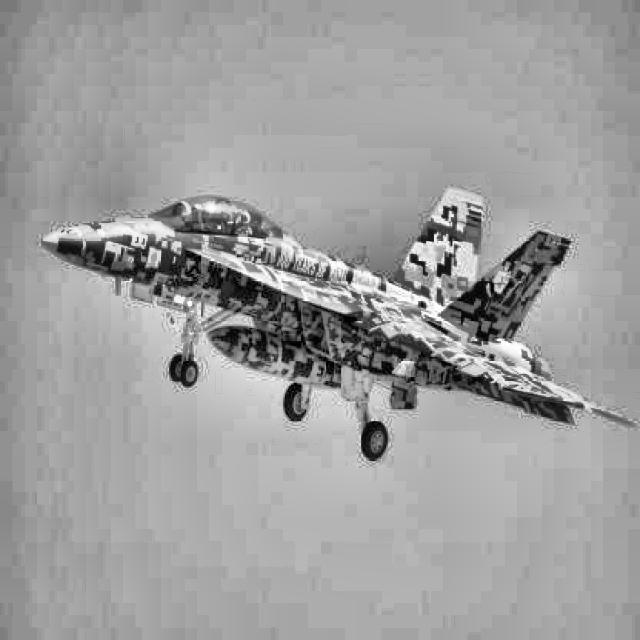F18: (40, 186, 635, 460)
